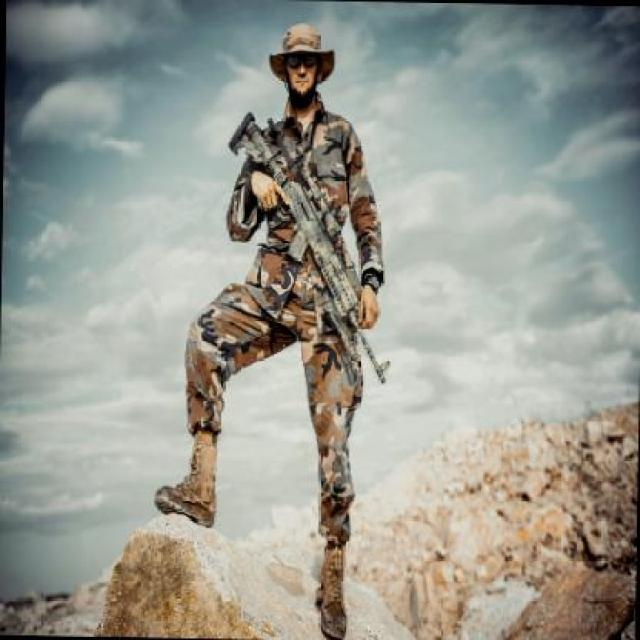MIL_Pax: (147, 20, 390, 638)
